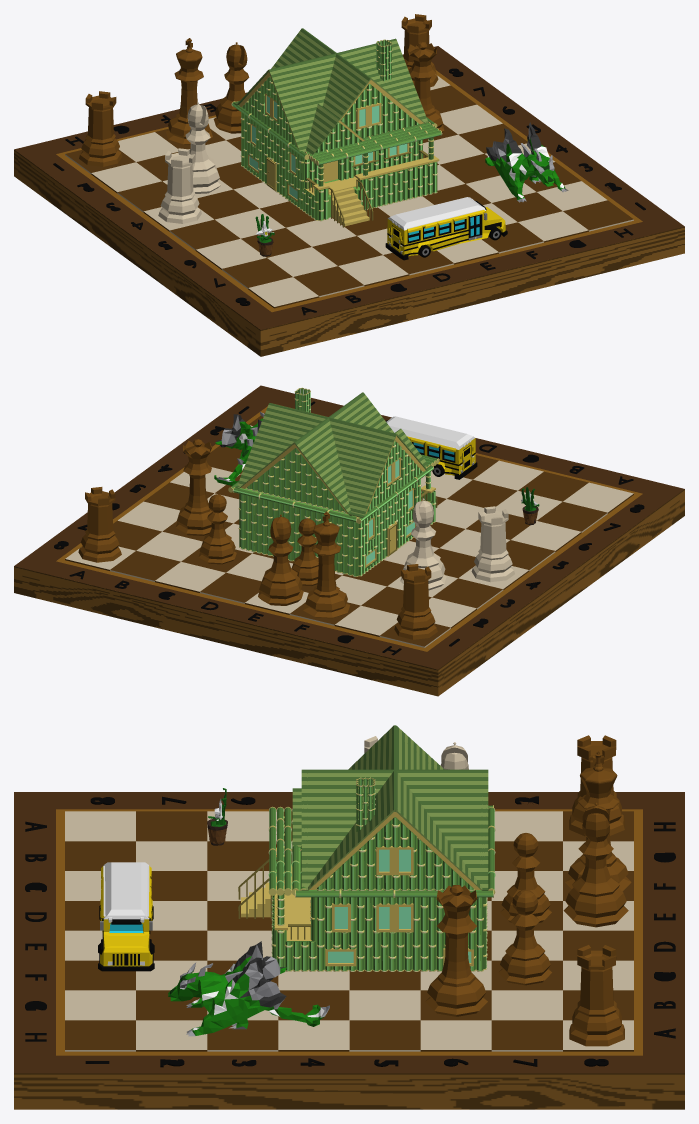
3 views of the same model, one above another, from view 1: azimuth 30°, elevation 25°; view 2: azimuth 150°, elevation 25°; view 3: azimuth 270°, elevation 25° (orthographic). The views are drawn at different scales.
Parts seen in each view (by area): view 1: Cube.002, Cube.1327, VEHICLES_SCHOOL_BUS, ANIMAL_DRAGON, OBJRANDOM_MONJA BLANCA; view 2: Cube.002, Cube.1327, VEHICLES_SCHOOL_BUS, ANIMAL_DRAGON, OBJRANDOM_MONJA BLANCA; view 3: Cube.002, Cube.1327, ANIMAL_DRAGON, VEHICLES_SCHOOL_BUS, OBJRANDOM_MONJA BLANCA.
Boxes of the visible parts, box(x1,y1,x2,y2) form: Cube.002: box(14, 14, 684, 356); Cube.1327: box(231, 28, 442, 227); VEHICLES_SCHOOL_BUS: box(385, 197, 507, 260); ANIMAL_DRAGON: box(485, 122, 568, 202); OBJRANDOM_MONJA BLANCA: box(255, 214, 274, 256); Cube.002: box(14, 385, 684, 696); Cube.1327: box(228, 387, 439, 576); VEHICLES_SCHOOL_BUS: box(385, 416, 477, 479); ANIMAL_DRAGON: box(214, 412, 264, 485); OBJRANDOM_MONJA BLANCA: box(521, 487, 539, 525); Cube.002: box(14, 735, 684, 1109); Cube.1327: box(238, 725, 495, 971); ANIMAL_DRAGON: box(168, 941, 329, 1036); VEHICLES_SCHOOL_BUS: box(98, 862, 154, 971); OBJRANDOM_MONJA BLANCA: box(207, 788, 227, 845).
Bounding box in the file's own units: 3981 × 1516 × 4012.
Materials: 37 (4 with a texture image).
